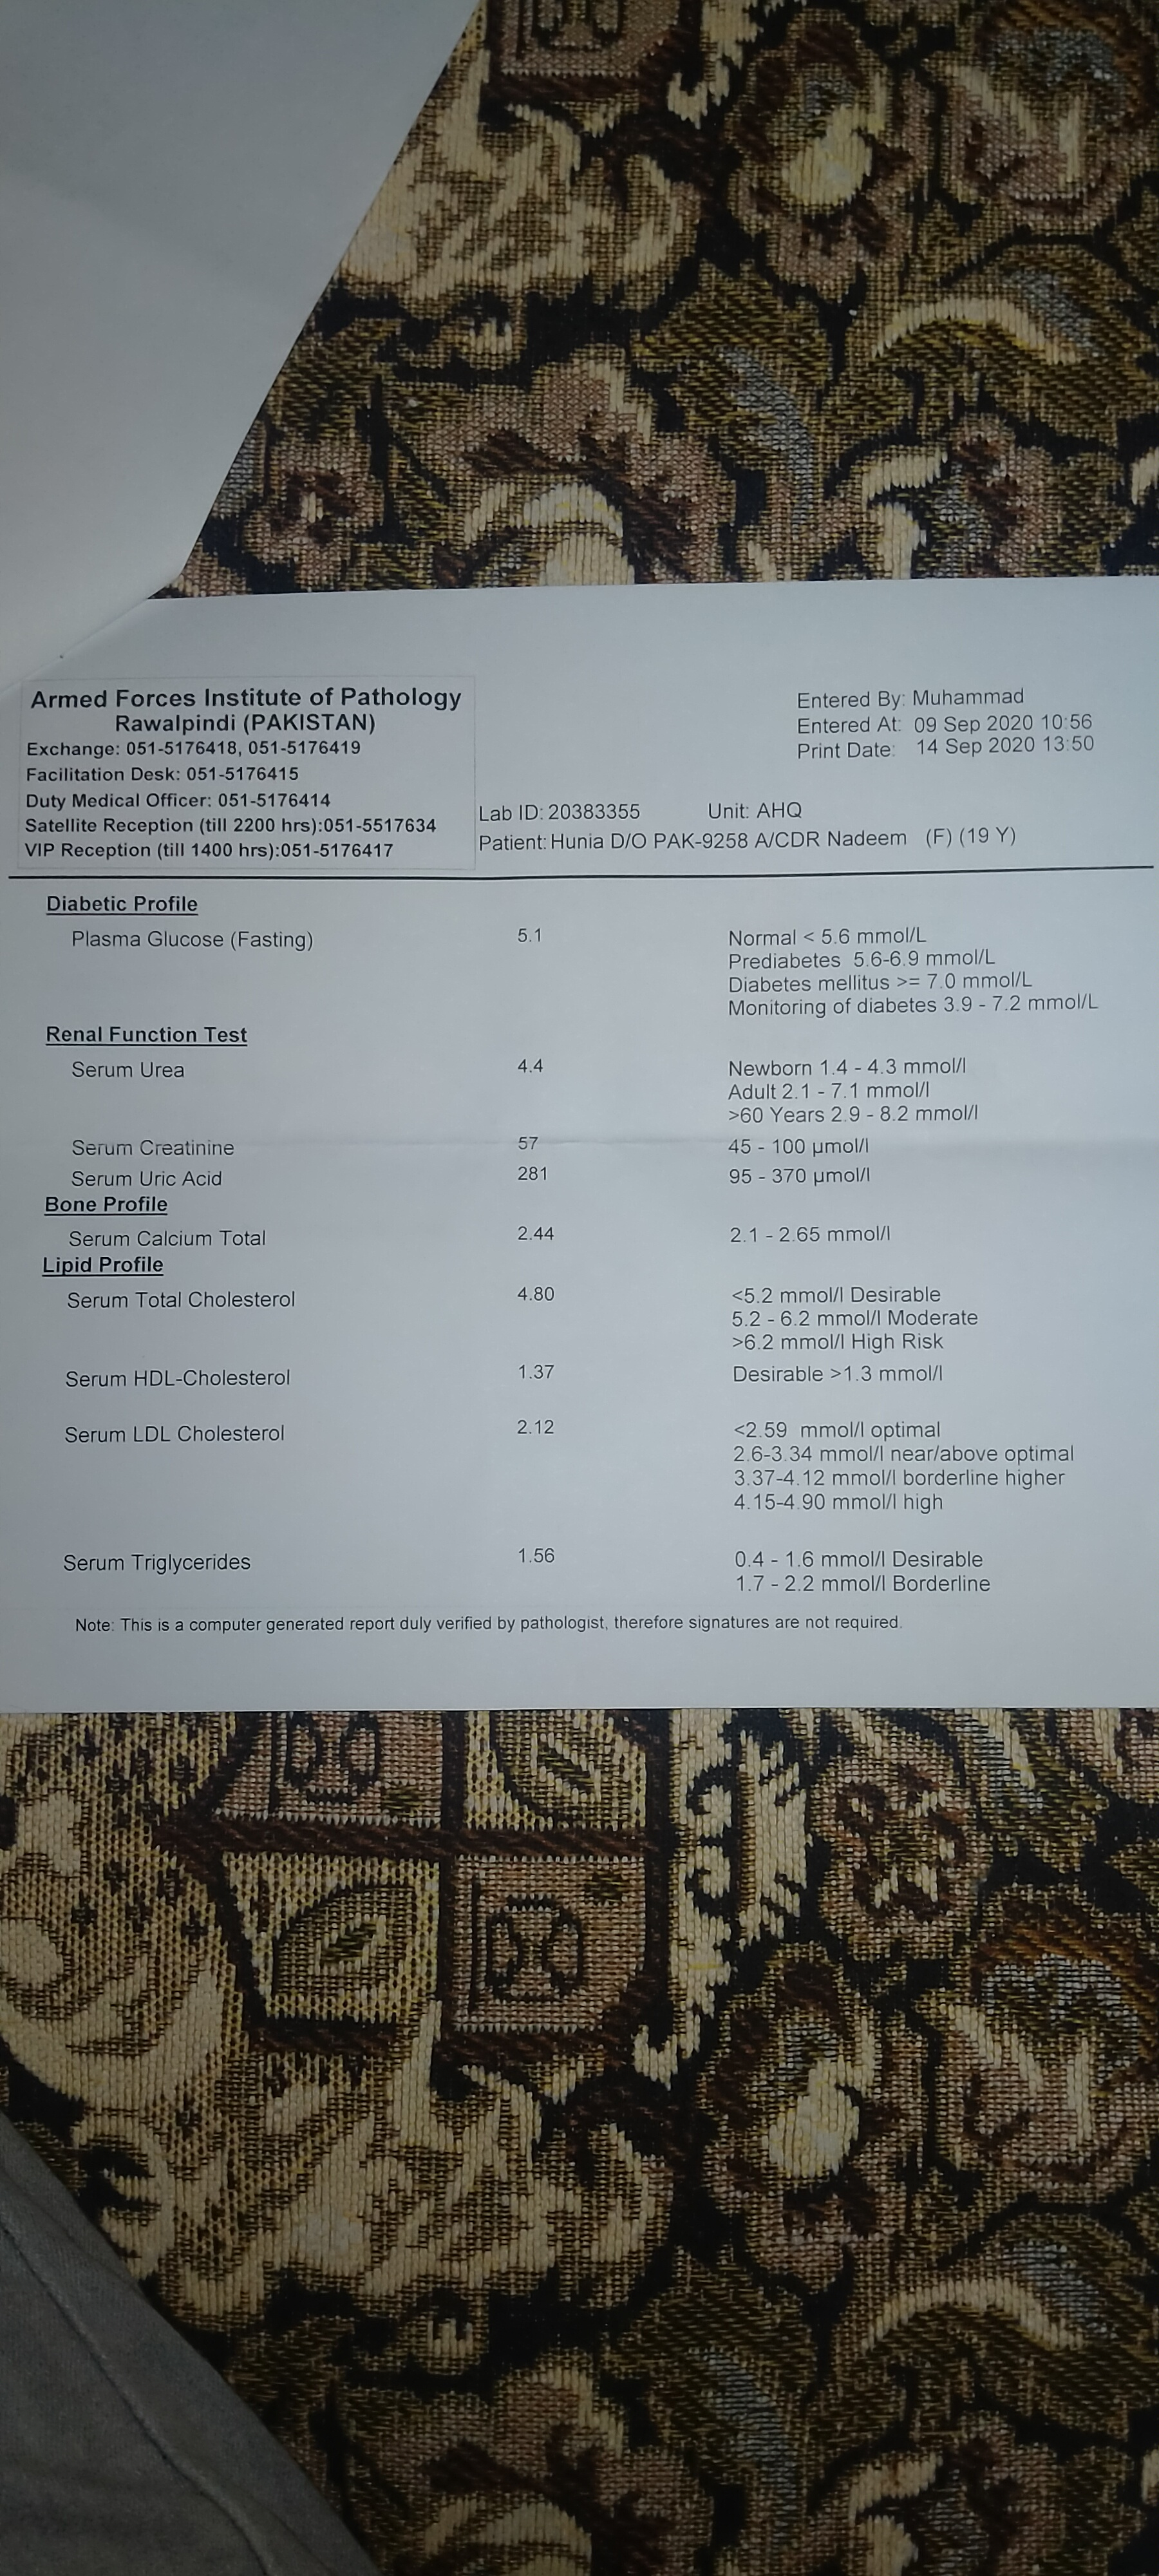report: (13, 881, 1125, 1677)
